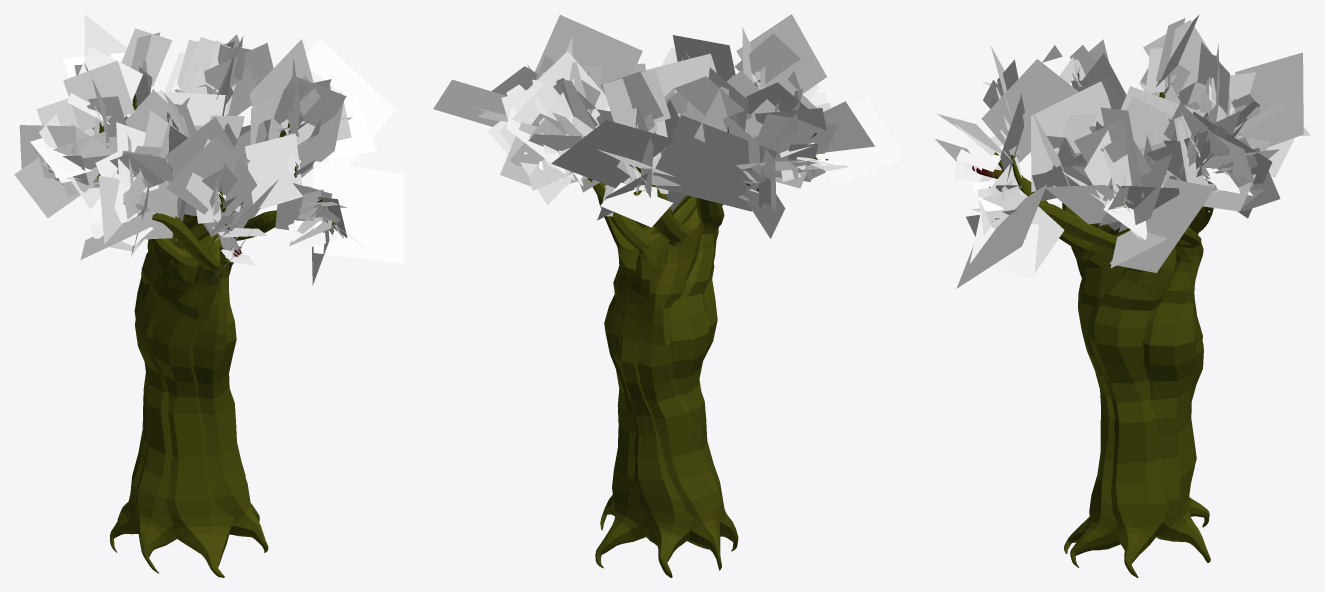
The model's file is OakTree.fbx.
The picture shows the model from 3 angles, left to right: view 1: azimuth 30°, elevation 25°; view 2: azimuth 150°, elevation 25°; view 3: azimuth 270°, elevation 25°; orthographic projection. The views are drawn at different scales.
Parts seen in each view (by area): view 1: OakTree; view 2: OakTree; view 3: OakTree.
Part boxes in pixels (left/top/right/bottom): OakTree: left=14, top=14, right=404, bottom=577; OakTree: left=433, top=14, right=905, bottom=577; OakTree: left=935, top=14, right=1310, bottom=577.
Bounding box in the file's own units: 124 × 153 × 103.
